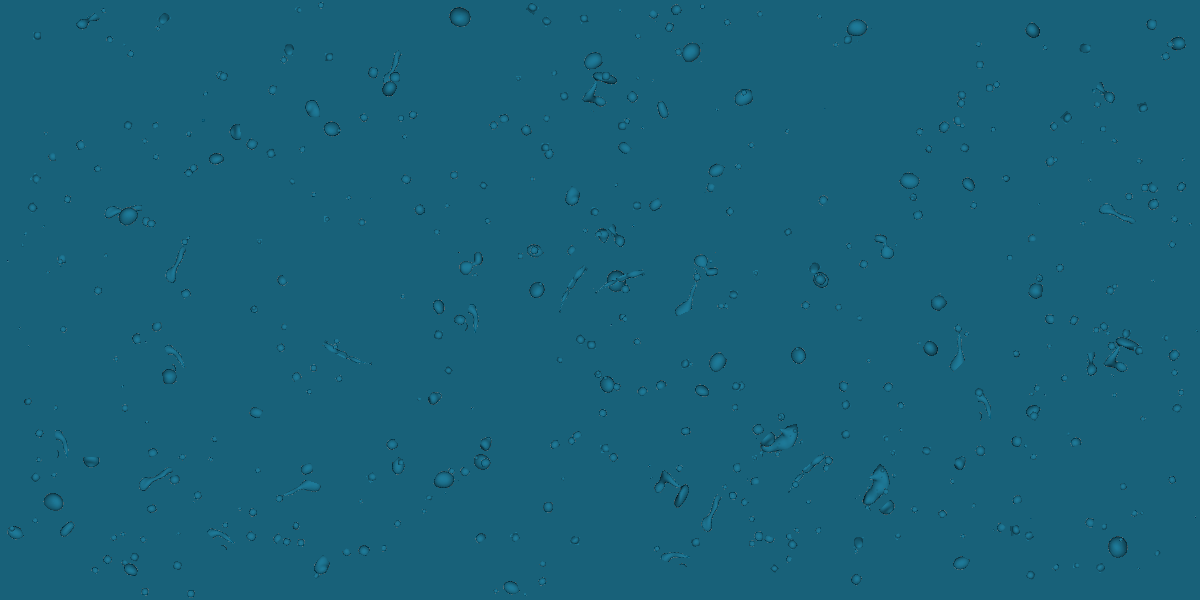Detached ligament: (570, 59, 628, 117), (1092, 325, 1150, 382), (645, 460, 701, 517), (930, 322, 981, 373), (663, 271, 712, 317), (274, 471, 322, 516), (853, 463, 897, 512), (783, 451, 829, 494), (553, 263, 589, 314), (754, 423, 804, 458), (1096, 195, 1137, 236), (157, 245, 198, 286), (374, 49, 414, 91), (693, 493, 733, 535), (321, 339, 373, 371), (592, 267, 646, 295), (103, 198, 143, 226), (136, 466, 176, 493), (205, 522, 236, 552), (870, 233, 899, 262), (163, 340, 187, 373), (73, 8, 101, 35), (603, 223, 631, 250), (692, 251, 719, 279), (1092, 81, 1120, 106), (659, 547, 691, 568), (458, 252, 483, 276), (464, 302, 482, 334), (1081, 351, 1102, 378), (976, 390, 993, 421), (54, 428, 70, 459)
drop: (1102, 531, 1134, 563), (601, 266, 632, 296), (843, 14, 873, 44), (430, 466, 460, 496), (113, 202, 143, 231), (702, 348, 730, 376), (896, 169, 924, 196), (447, 3, 473, 31), (560, 185, 586, 211), (309, 554, 335, 580), (786, 343, 811, 368), (595, 372, 620, 397), (387, 456, 411, 480), (919, 338, 943, 362), (1021, 20, 1045, 44), (320, 117, 344, 141), (55, 518, 79, 542), (521, 240, 545, 263), (424, 388, 447, 411), (590, 224, 613, 247), (926, 292, 949, 315), (580, 49, 604, 71), (498, 577, 521, 599), (949, 553, 971, 576), (2, 522, 25, 544), (377, 78, 399, 101), (1021, 400, 1043, 422), (428, 295, 450, 317), (731, 86, 754, 107), (43, 491, 64, 513), (705, 161, 726, 183), (958, 173, 979, 194), (205, 148, 226, 169), (759, 430, 780, 451), (878, 498, 899, 519), (682, 42, 703, 63), (1166, 33, 1187, 53), (527, 280, 547, 300), (811, 270, 831, 290), (655, 99, 672, 122), (302, 98, 321, 118), (121, 560, 140, 578), (953, 454, 970, 474), (1027, 282, 1044, 302), (615, 139, 633, 157), (473, 453, 491, 471), (1165, 346, 1183, 364), (935, 118, 953, 136), (479, 435, 496, 454), (161, 366, 178, 385), (647, 197, 664, 214), (243, 136, 260, 153), (624, 89, 641, 106), (383, 436, 400, 453), (749, 421, 766, 438), (355, 541, 372, 558), (541, 147, 558, 164), (397, 172, 414, 189), (242, 529, 259, 546), (411, 202, 428, 219), (812, 272, 829, 289), (667, 1, 684, 18), (847, 571, 864, 588), (247, 405, 264, 421), (693, 382, 710, 398), (1042, 155, 1059, 171), (1145, 196, 1162, 212), (228, 123, 242, 142), (518, 123, 534, 139), (82, 456, 101, 469), (299, 462, 315, 477), (268, 530, 283, 546), (562, 242, 577, 258), (1144, 181, 1160, 196), (274, 273, 289, 289), (472, 530, 488, 545), (100, 553, 116, 568), (452, 312, 468, 327), (156, 11, 172, 26), (807, 260, 822, 276), (457, 465, 472, 480), (815, 192, 830, 207), (635, 383, 650, 398), (653, 377, 668, 392), (992, 521, 1007, 536), (605, 450, 620, 465), (911, 209, 926, 224), (213, 68, 228, 83), (1059, 110, 1074, 125), (525, 1, 540, 16), (1174, 179, 1189, 194), (546, 437, 561, 451), (568, 427, 583, 441), (762, 534, 777, 548), (836, 379, 850, 394), (881, 379, 895, 394), (1144, 18, 1158, 33), (1009, 435, 1023, 450), (647, 9, 662, 23), (340, 547, 354, 562), (857, 258, 872, 272), (617, 282, 632, 296), (477, 455, 492, 469), (366, 65, 380, 80), (289, 369, 303, 383), (73, 138, 87, 152), (179, 286, 193, 300), (146, 445, 160, 459), (390, 516, 404, 530), (596, 406, 610, 420), (1067, 313, 1081, 327), (1068, 435, 1083, 448), (387, 70, 401, 83), (703, 182, 716, 196), (686, 48, 699, 62), (265, 83, 278, 97), (1078, 42, 1092, 55), (145, 502, 159, 515), (663, 20, 676, 34), (487, 119, 500, 132), (799, 299, 812, 312), (751, 530, 764, 543), (565, 435, 578, 448), (1047, 120, 1060, 133), (723, 205, 736, 218), (936, 507, 949, 520), (182, 166, 195, 179), (954, 97, 967, 110), (528, 244, 541, 257), (277, 54, 290, 67), (1000, 171, 1013, 184), (737, 496, 750, 509), (187, 162, 200, 175), (246, 506, 259, 519), (357, 111, 370, 124), (540, 15, 553, 28), (1136, 101, 1149, 114), (1094, 561, 1107, 574), (57, 324, 70, 337), (1097, 320, 1110, 333), (365, 471, 378, 484), (29, 172, 42, 185), (786, 538, 799, 551), (26, 201, 39, 214), (574, 333, 587, 346), (29, 471, 42, 484), (541, 501, 554, 514), (1009, 493, 1023, 505), (950, 115, 962, 129), (130, 332, 142, 346), (56, 254, 68, 268), (746, 475, 760, 487), (139, 216, 151, 229), (1083, 516, 1095, 529), (498, 112, 511, 124), (150, 322, 163, 334), (1105, 340, 1118, 352), (730, 462, 742, 475), (406, 109, 419, 121), (679, 358, 692, 370), (1023, 529, 1035, 542), (265, 147, 277, 160), (283, 43, 295, 56), (169, 475, 181, 487), (973, 445, 985, 457), (1058, 372, 1070, 384), (895, 399, 907, 411), (104, 33, 116, 45), (1054, 262, 1066, 274), (1166, 239, 1178, 251), (789, 479, 801, 491), (991, 79, 1003, 91), (1034, 272, 1046, 284), (776, 411, 788, 423), (592, 369, 604, 381), (248, 304, 260, 316), (908, 191, 920, 203), (92, 285, 104, 297), (275, 342, 287, 354), (1011, 347, 1023, 359), (291, 520, 303, 532), (924, 143, 936, 155), (913, 125, 925, 137), (823, 455, 835, 467), (840, 399, 852, 411), (1171, 402, 1183, 414), (973, 386, 985, 398), (1025, 569, 1037, 581), (129, 551, 141, 563), (122, 119, 134, 131), (735, 380, 747, 392), (1028, 410, 1040, 422), (720, 16, 732, 28), (333, 374, 345, 386), (509, 531, 521, 543), (959, 142, 971, 154), (680, 425, 692, 437), (1044, 313, 1055, 326), (853, 536, 864, 549), (672, 46, 683, 58), (61, 194, 73, 205), (91, 163, 103, 174), (89, 564, 101, 575), (126, 48, 137, 60), (727, 490, 739, 501), (33, 428, 45, 439), (569, 535, 581, 546), (921, 445, 932, 457), (433, 329, 444, 341), (813, 12, 824, 23), (1051, 562, 1062, 573), (631, 336, 642, 347), (537, 576, 548, 587), (969, 200, 980, 211), (1169, 214, 1180, 225), (176, 451, 187, 462), (281, 536, 292, 547), (611, 381, 622, 392), (1167, 474, 1178, 485), (192, 490, 203, 501), (1160, 51, 1171, 62), (443, 365, 454, 376), (769, 563, 780, 574), (478, 180, 489, 191), (559, 91, 570, 102), (218, 71, 229, 82), (172, 560, 183, 571), (589, 206, 600, 217), (1133, 345, 1144, 356), (746, 140, 757, 151), (30, 516, 41, 527), (1110, 136, 1121, 147), (731, 381, 742, 392), (690, 537, 701, 548), (840, 429, 851, 440), (186, 588, 196, 599), (1140, 182, 1150, 193), (984, 83, 995, 93), (1039, 43, 1049, 54), (139, 587, 150, 597), (295, 538, 306, 548), (1123, 192, 1134, 202), (1031, 383, 1041, 394), (820, 463, 830, 474), (783, 554, 793, 565), (149, 120, 160, 130), (109, 533, 120, 543), (1130, 508, 1140, 519), (446, 466, 457, 476), (138, 534, 148, 545), (674, 463, 684, 474), (209, 435, 219, 446), (298, 144, 309, 154), (814, 525, 825, 535), (732, 161, 743, 171), (1010, 525, 1020, 536), (632, 200, 642, 211), (622, 116, 633, 126), (33, 455, 44, 465), (619, 314, 629, 325), (253, 466, 263, 477), (586, 340, 597, 350), (1024, 233, 1036, 242), (47, 153, 56, 165), (316, 0, 326, 10), (449, 170, 459, 180), (909, 505, 919, 515), (975, 60, 985, 70), (618, 313, 628, 323), (843, 35, 853, 45), (783, 227, 793, 237), (601, 71, 611, 81), (32, 31, 42, 41), (540, 142, 550, 152), (151, 152, 161, 162), (747, 514, 757, 524), (739, 87, 749, 97), (652, 543, 662, 553), (482, 216, 492, 226), (974, 40, 984, 50), (633, 32, 643, 42), (179, 238, 189, 248), (397, 114, 407, 124), (1170, 368, 1180, 378), (146, 219, 156, 229), (304, 387, 314, 397), (988, 124, 998, 134), (324, 52, 334, 62), (579, 14, 589, 24), (617, 121, 627, 131), (784, 532, 793, 543), (592, 229, 603, 238), (1027, 452, 1038, 461), (309, 362, 318, 373), (1135, 157, 1146, 166), (330, 341, 340, 350), (200, 88, 210, 97), (729, 290, 738, 300), (1121, 329, 1131, 338), (844, 241, 853, 251), (792, 525, 801, 535), (332, 337, 341, 347), (958, 122, 967, 131), (804, 498, 813, 507), (957, 91, 966, 100), (721, 302, 730, 311), (56, 258, 65, 267), (50, 471, 59, 480), (1106, 286, 1115, 295), (24, 398, 33, 407), (1161, 333, 1170, 342), (7, 525, 16, 534), (893, 532, 902, 541), (294, 5, 303, 14), (1153, 549, 1162, 558), (855, 314, 864, 323), (550, 69, 559, 78), (833, 302, 842, 311), (962, 330, 971, 339), (600, 444, 609, 453), (358, 218, 366, 228), (1119, 481, 1127, 491), (185, 130, 193, 140), (947, 477, 955, 486), (1177, 388, 1185, 397), (221, 521, 230, 529), (99, 6, 107, 15), (1092, 326, 1101, 334), (748, 539, 756, 548), (1005, 253, 1014, 261), (882, 487, 890, 496), (555, 356, 564, 364), (288, 177, 296, 186), (312, 572, 321, 580), (1098, 125, 1107, 133), (400, 133, 409, 141), (698, 3, 707, 11), (381, 543, 388, 553), (1052, 156, 1060, 164), (345, 194, 353, 202), (581, 227, 589, 235), (52, 404, 60, 412), (433, 228, 441, 236), (112, 355, 120, 363), (528, 175, 536, 183), (492, 587, 500, 595), (721, 483, 729, 491), (783, 127, 791, 135), (207, 455, 215, 463), (154, 24, 162, 32), (882, 434, 890, 442), (425, 494, 433, 502), (752, 269, 760, 277), (751, 454, 759, 462), (1117, 537, 1125, 545), (613, 182, 621, 190), (143, 419, 151, 427), (896, 426, 904, 434), (185, 235, 193, 243), (832, 41, 840, 49), (1104, 329, 1112, 337), (687, 361, 695, 369), (357, 498, 365, 506), (852, 548, 860, 556), (310, 191, 318, 199), (1079, 219, 1087, 227), (420, 507, 428, 515), (119, 530, 127, 538), (959, 532, 967, 540), (16, 325, 24, 333), (40, 223, 48, 231), (1192, 327, 1200, 335), (1134, 565, 1142, 573), (1035, 201, 1043, 209), (102, 251, 110, 259), (717, 303, 726, 310), (121, 404, 128, 413), (120, 559, 127, 568), (539, 561, 547, 568), (280, 323, 287, 331), (517, 252, 524, 260), (397, 458, 404, 466), (1101, 523, 1108, 531), (1072, 562, 1080, 569), (1166, 41, 1174, 48), (756, 10, 763, 18), (543, 115, 550, 123), (1093, 102, 1102, 108), (1111, 392, 1118, 399), (1086, 177, 1093, 184), (237, 506, 244, 513), (1187, 221, 1194, 228), (1180, 156, 1187, 163), (399, 293, 406, 300), (515, 75, 522, 82), (256, 238, 263, 245), (774, 451, 781, 458), (865, 357, 872, 364), (1090, 87, 1097, 94), (200, 117, 207, 124), (1111, 284, 1118, 290), (732, 404, 738, 411), (119, 383, 126, 389), (1139, 416, 1146, 422), (444, 203, 450, 209), (1150, 278, 1156, 284), (714, 107, 720, 113), (143, 339, 149, 345), (608, 322, 614, 328), (1042, 392, 1048, 398), (5, 258, 11, 264), (1046, 343, 1052, 349), (1139, 510, 1145, 516), (635, 75, 641, 81), (890, 450, 896, 456), (324, 216, 330, 222), (121, 42, 127, 48), (1065, 431, 1071, 437), (1028, 392, 1034, 398), (142, 138, 148, 144), (617, 8, 623, 14), (1022, 443, 1028, 449), (22, 231, 28, 237), (522, 592, 528, 598), (639, 125, 645, 131), (469, 405, 475, 411), (630, 223, 636, 229), (646, 463, 652, 469), (191, 499, 197, 505), (368, 195, 374, 201), (650, 77, 656, 83), (26, 343, 32, 349), (971, 502, 977, 508), (43, 131, 49, 137), (1192, 515, 1198, 520), (1080, 139, 1085, 145), (20, 242, 25, 248), (708, 259, 713, 265), (1028, 516, 1034, 521), (822, 106, 828, 111), (45, 270, 51, 274), (917, 341, 921, 346), (561, 476, 565, 481), (176, 532, 181, 536), (417, 397, 421, 402)
